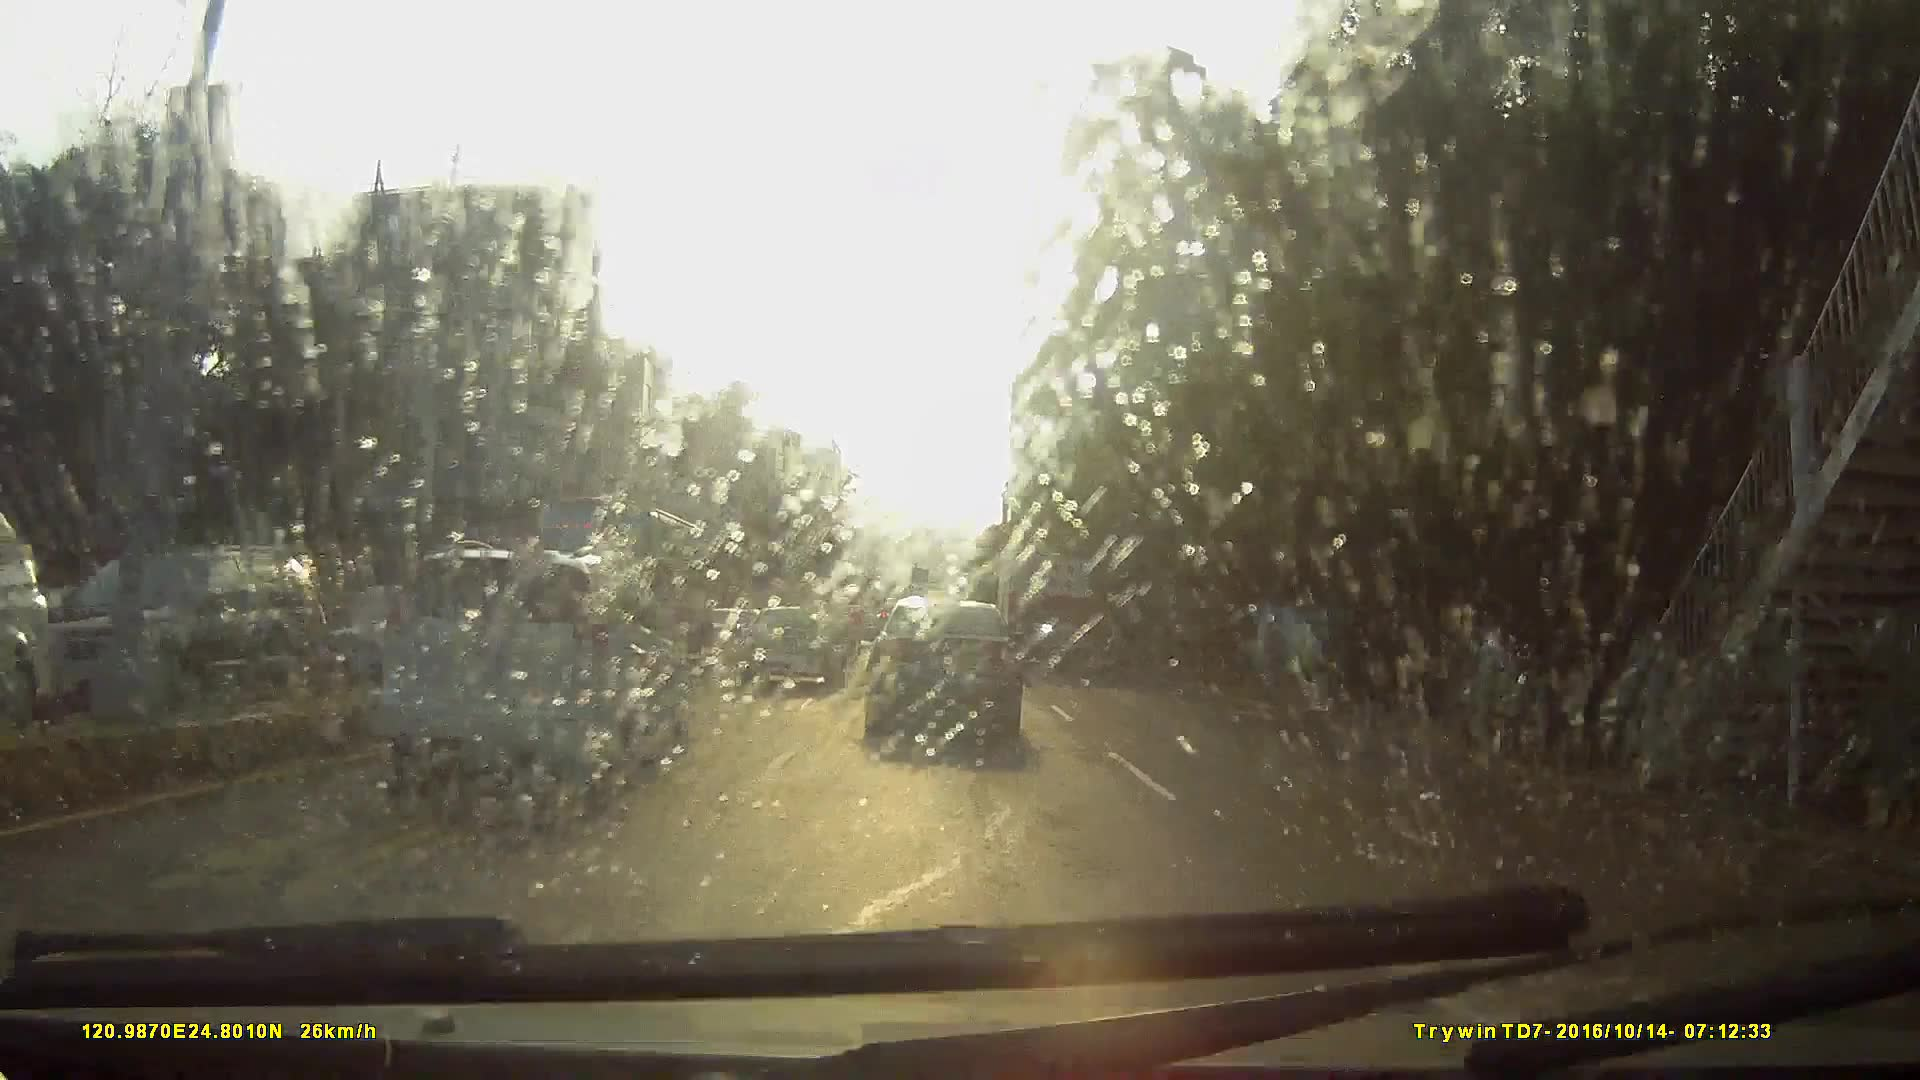vehicle: (251, 556, 684, 868), (380, 543, 696, 793), (505, 495, 723, 661), (864, 593, 1025, 758), (996, 556, 1100, 682), (735, 608, 845, 694), (866, 638, 915, 687)
